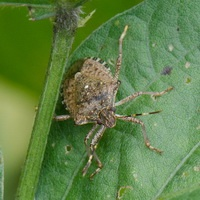insect: (54, 25, 172, 176)
